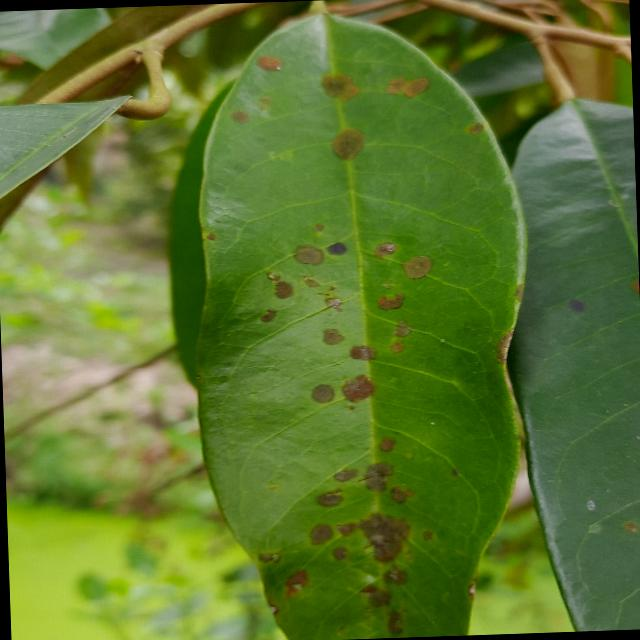Algal Leaf Spot: (177, 0, 541, 639)
